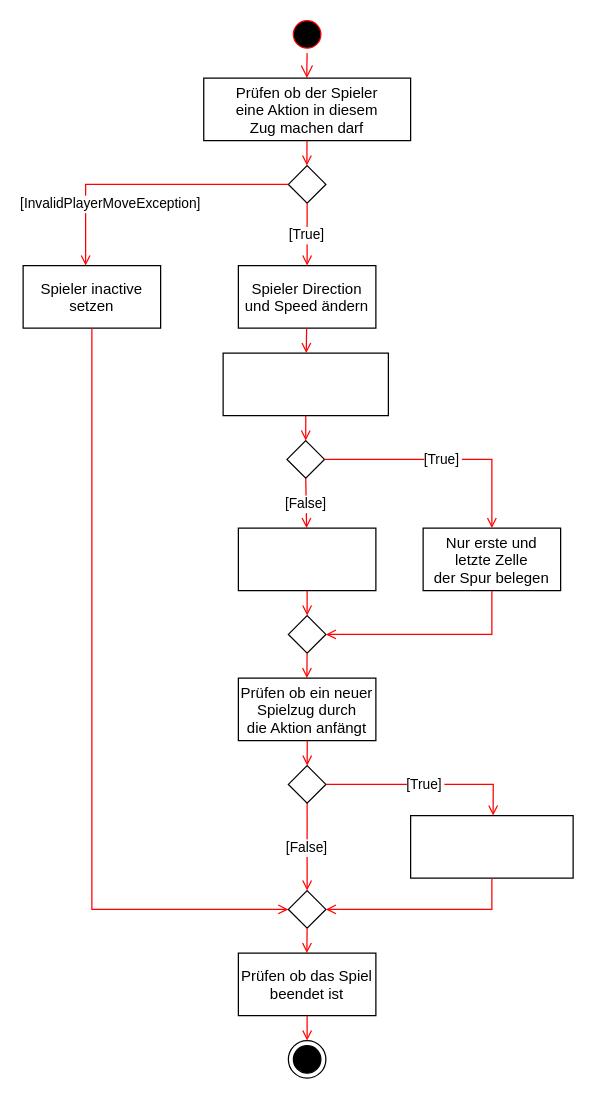
Image size: 594x1099. Some labels were removed from this diagram. The centre of each missing label's shape, as x and y in pixels:
"Alle Zellen der Spur auf dem Spielfeld belegen" belongs at [306,559].
"Prüfen ob der aktuelle Zug ein durch 6 teilbarer Zug ist" belongs at [305,384].
"Spieler die eine Kollision verursacht haben inaktiv setzen" belongs at [491,846].
